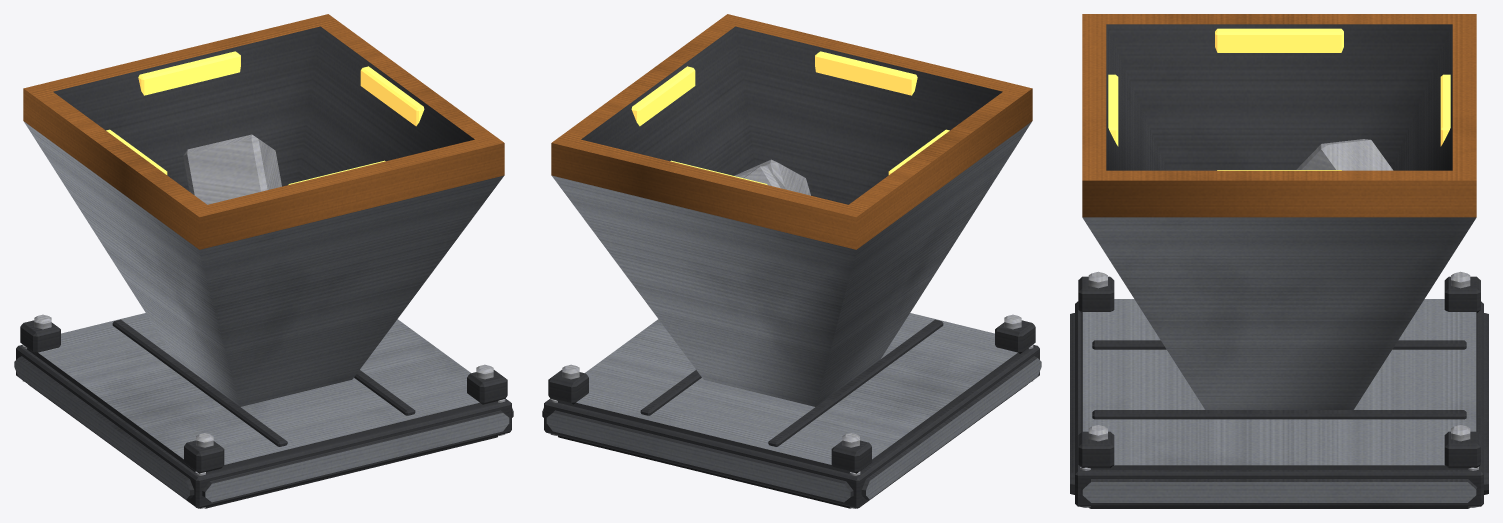
File: R4X_SalvageOptimizer.glb
3 renders of one model, left to right at view 1: azimuth 30°, elevation 25°; view 2: azimuth 150°, elevation 25°; view 3: azimuth 270°, elevation 25°, orthographic. The views are drawn at different scales.
Visible parts, largest first — view 1: R4X_SalvageOptimizer_Body; view 2: R4X_SalvageOptimizer_Body; view 3: R4X_SalvageOptimizer_Body.
Boxes of the visible parts, <box> form: R4X_SalvageOptimizer_Body: <box>14,14,513,508</box>; R4X_SalvageOptimizer_Body: <box>542,14,1041,508</box>; R4X_SalvageOptimizer_Body: <box>1070,14,1488,508</box>.
Size of the model in its own units: 0.52 by 0.45 by 0.52.
5 materials, 4 textured.
